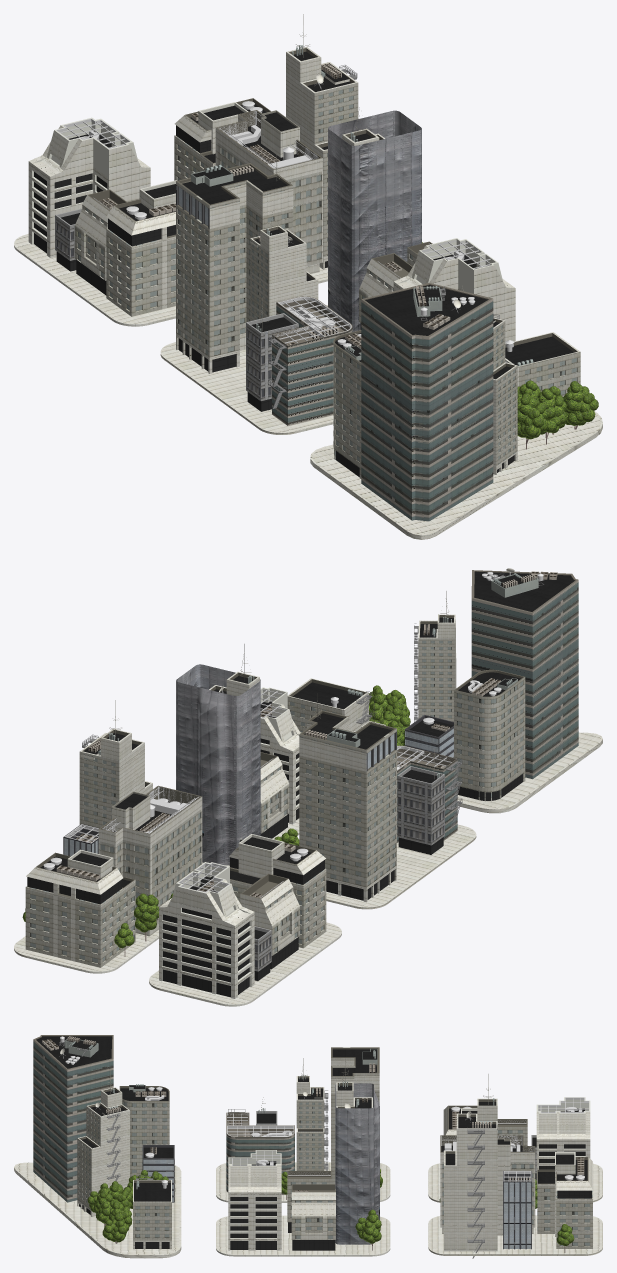
The picture shows the model from 3 angles, top to bottom: view 1: azimuth 30°, elevation 25°; view 2: azimuth 150°, elevation 25°; view 3: azimuth 270°, elevation 25°; orthographic projection. The views are drawn at different scales.
Visible parts, largest first — view 1: Blocks_007, Blocks_008, Blocks_009, Blocks_010, Blocks_011; view 2: Blocks_007, Blocks_011, Blocks_008, Blocks_009, Blocks_010; view 3: Blocks_007, Blocks_011, Blocks_010, Blocks_008, Blocks_009.
Part boxes in pixels (x1,y1,x2,y2): Blocks_007: (310, 283, 602, 539); Blocks_008: (160, 151, 352, 434); Blocks_009: (14, 117, 176, 326); Blocks_010: (326, 107, 515, 343); Blocks_011: (174, 14, 358, 283); Blocks_007: (287, 568, 602, 813); Blocks_011: (14, 700, 202, 973); Blocks_008: (274, 693, 476, 909); Blocks_009: (149, 834, 341, 1006); Blocks_010: (176, 644, 301, 866); Blocks_007: (14, 1035, 181, 1258); Blocks_011: (428, 1074, 602, 1258); Blocks_010: (216, 1059, 390, 1256); Blocks_008: (216, 1047, 390, 1202); Blocks_009: (428, 1097, 602, 1202).
Size of the model in its own units: 2.44 by 2.05 by 6.35.
17 materials, 14 textured.
